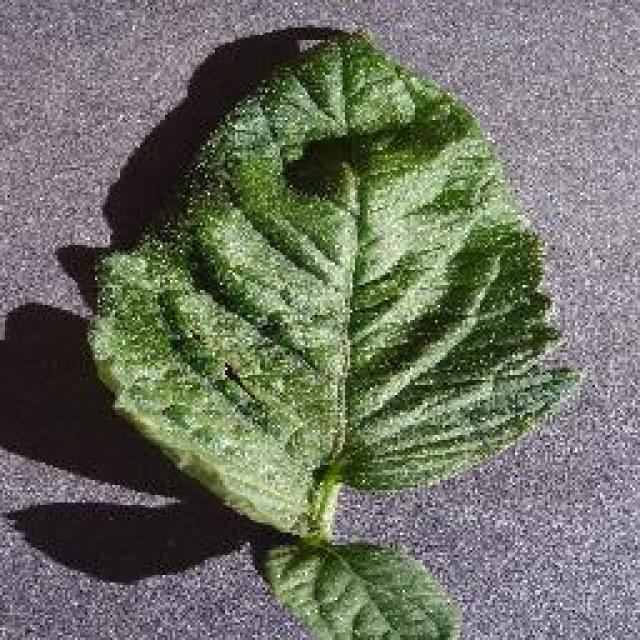Tomato_Healthy: (44, 14, 581, 628)
